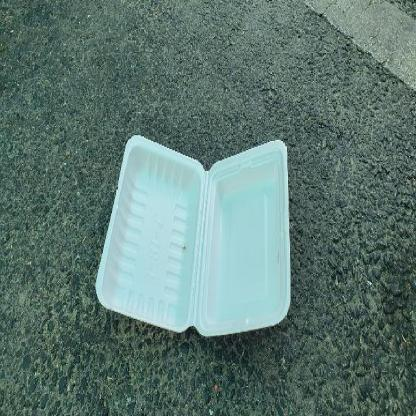Glass Cup: (95, 131, 292, 338), (96, 135, 291, 336)
